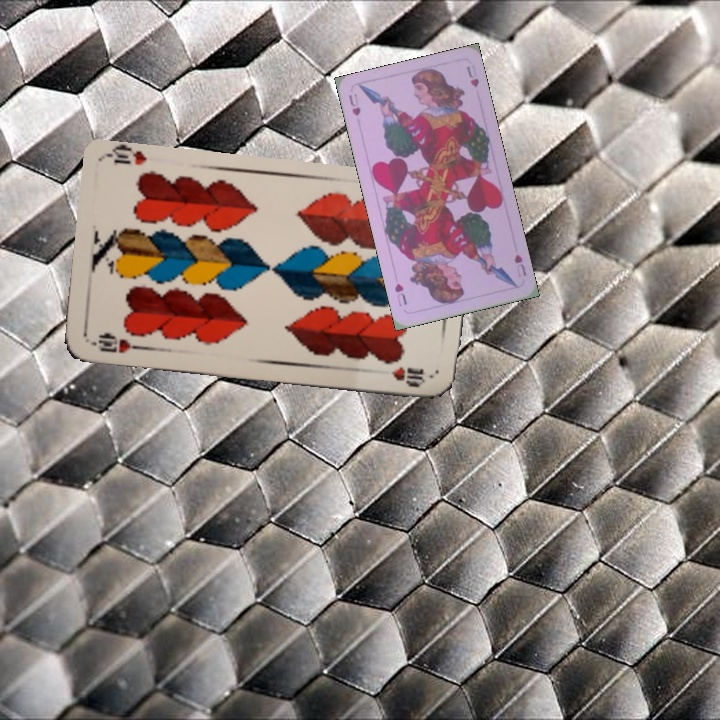H10: (86, 330, 145, 356)
HU: (510, 250, 529, 280), (344, 89, 363, 119)
